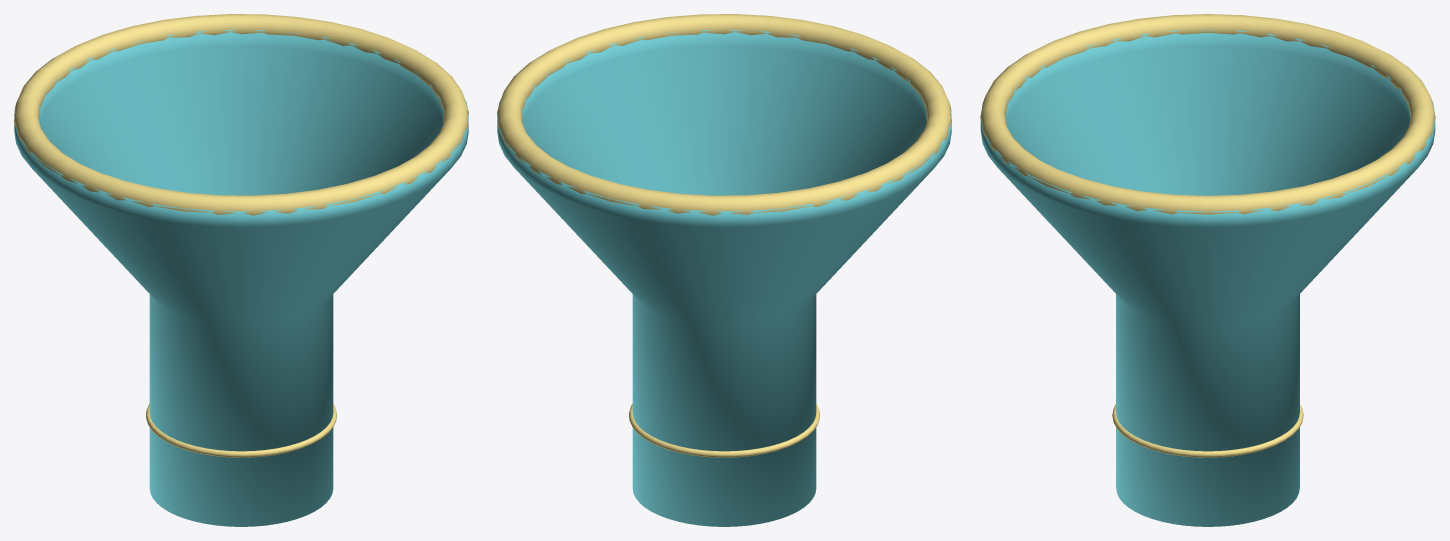
The model's file is FunnelLong.glb.
3 renders of one model, left to right at view 1: azimuth 30°, elevation 25°; view 2: azimuth 150°, elevation 25°; view 3: azimuth 270°, elevation 25°, orthographic.
Visible parts, largest first — view 1: FunnelLong_Body, FunnelLong_MouthRim, FunnelLong_TubeGuide; view 2: FunnelLong_Body, FunnelLong_MouthRim, FunnelLong_TubeGuide; view 3: FunnelLong_Body, FunnelLong_MouthRim, FunnelLong_TubeGuide.
Part boxes in pixels (box(x1,y1,x2,y2)): FunnelLong_Body: box(14, 29, 468, 526); FunnelLong_MouthRim: box(14, 14, 468, 215); FunnelLong_TubeGuide: box(146, 403, 336, 457); FunnelLong_Body: box(497, 29, 951, 526); FunnelLong_MouthRim: box(497, 14, 951, 215); FunnelLong_TubeGuide: box(629, 403, 819, 457); FunnelLong_Body: box(980, 29, 1435, 526); FunnelLong_MouthRim: box(980, 14, 1435, 214); FunnelLong_TubeGuide: box(1112, 404, 1303, 457).
Size of the model in its own units: 4.71 by 4.38 by 4.71.
